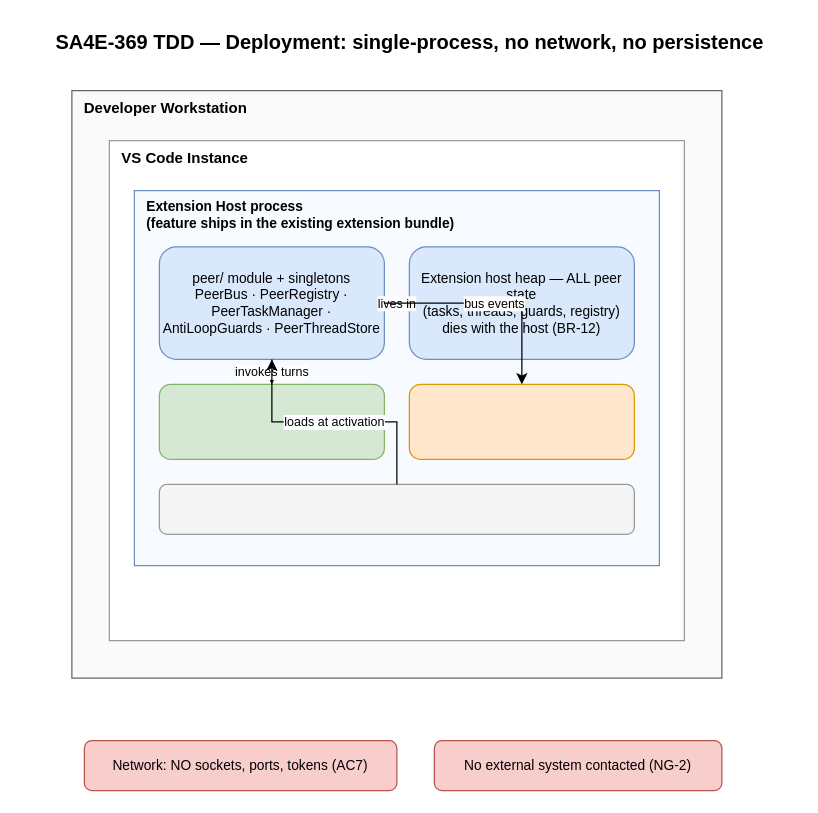
Image size: 818x813. Some labels were removed from this diagram. The shapes that lost their labels are listed below. From the top down, each one's centre as x and y in pixels, then its label:
point 271,421: pi-agent/ session stack — per-tab sessions (D1)
point 521,421: Chat webview(s) — badge / transcript prefix / peer panel
point 396,508: Extension loader (SA4E-333) — activation / deactivation
